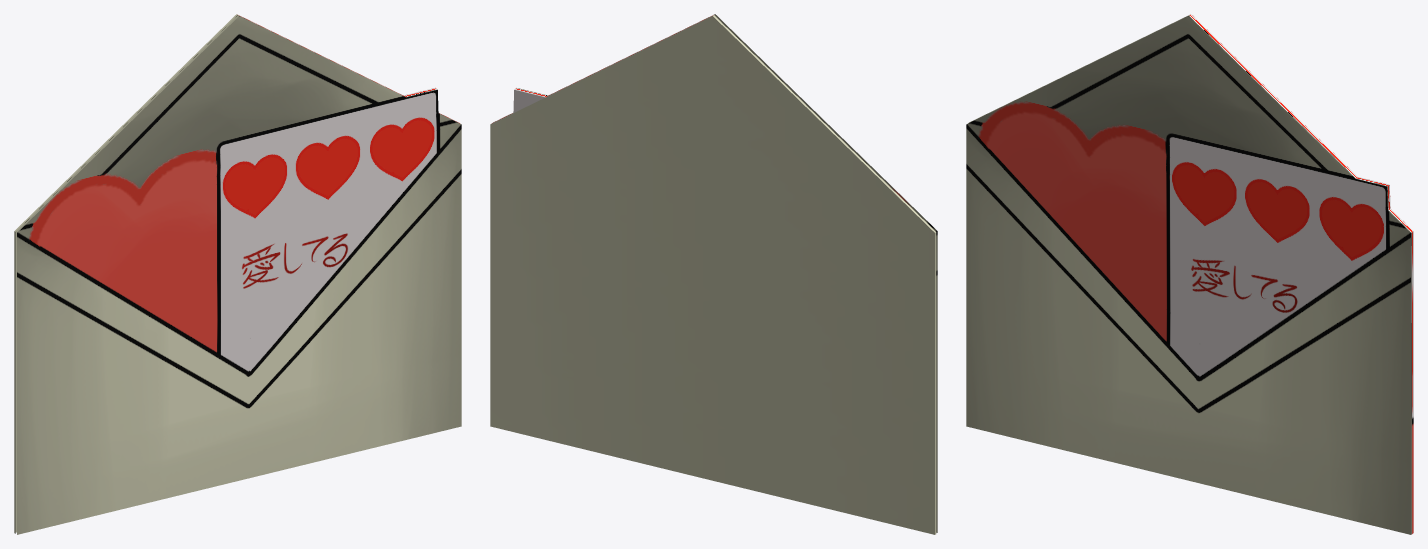
File: Letter.fbx
3 views of the same model, side by side, from view 1: azimuth 30°, elevation 25°; view 2: azimuth 150°, elevation 25°; view 3: azimuth 330°, elevation 25° (orthographic).
Parts seen in each view (by area): view 1: Letter; view 2: Letter; view 3: Letter.
Part boxes in pixels (x1=…): Letter: x1=14, y1=14, x2=461, y2=534; Letter: x1=490, y1=14, x2=937, y2=534; Letter: x1=966, y1=14, x2=1413, y2=534.
Bounding box in the file's own units: 31.09 × 31.05 × 0.3161.
